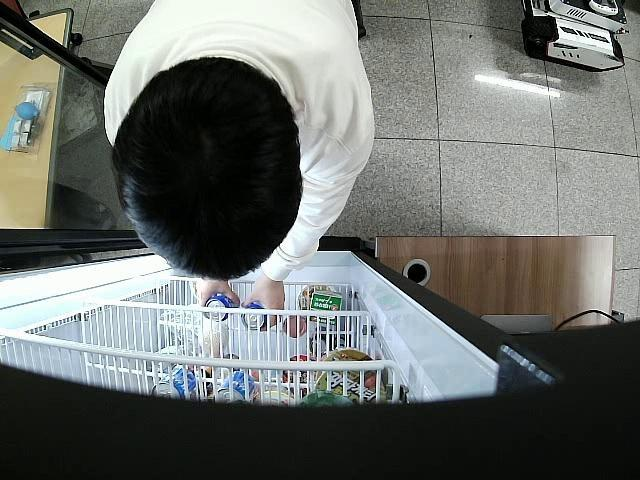13_pocariSweat: (204, 294, 240, 321), (241, 302, 266, 330)
